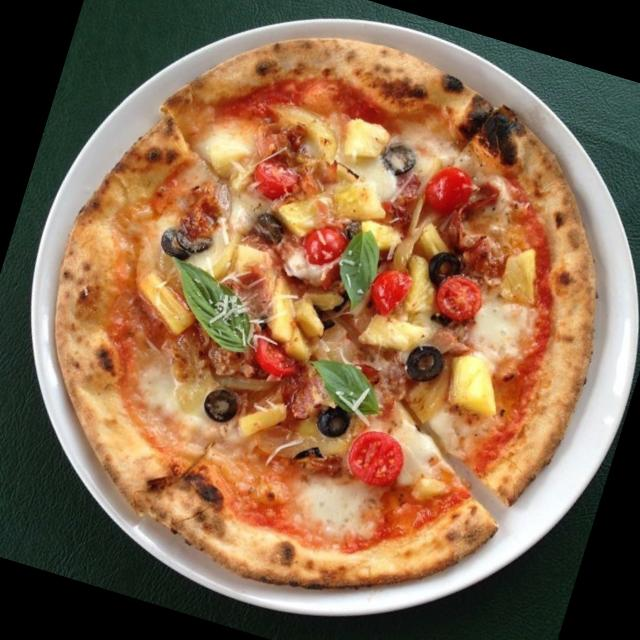black_olives: (194, 380, 250, 430), (155, 218, 210, 264), (374, 136, 424, 183), (404, 338, 444, 387), (312, 398, 356, 440), (248, 208, 286, 247)
pizza: (51, 38, 598, 593)
